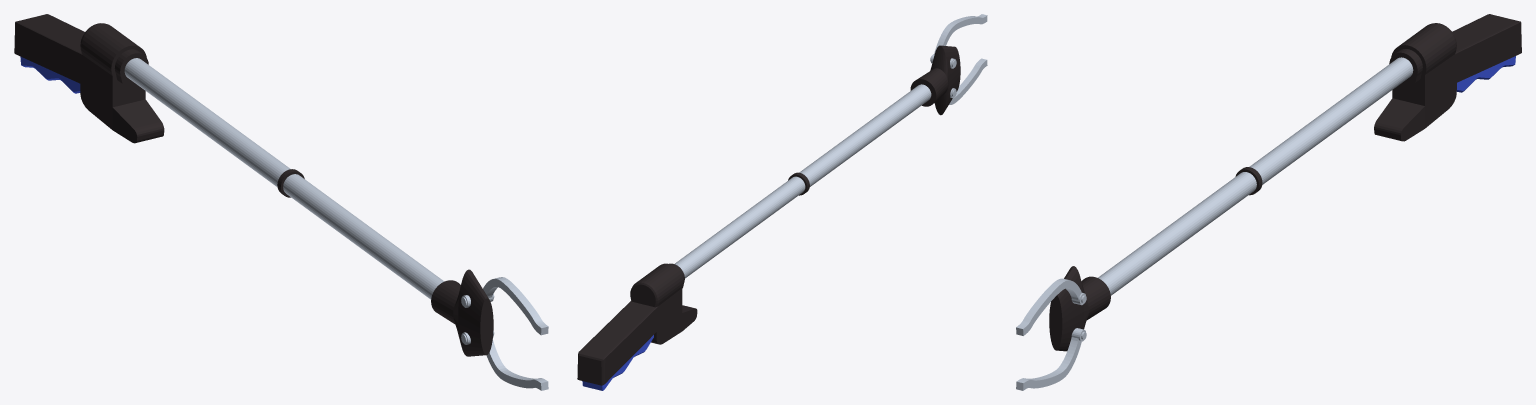
Rendered from cosaparaagarra.fbx.
The picture shows the model from 3 angles, left to right: view 1: azimuth 30°, elevation 25°; view 2: azimuth 150°, elevation 25°; view 3: azimuth 330°, elevation 25°; orthographic projection. The views are drawn at different scales.
Visible parts, largest first — view 1: Cilindro; view 2: Cilindro; view 3: Cilindro.
Part boxes in pixels (x1=…): Cilindro: x1=14, y1=14, x2=548, y2=390; Cilindro: x1=577, y1=14, x2=987, y2=390; Cilindro: x1=1016, y1=14, x2=1521, y2=390.
Bounding box in the file's own units: 99.98 × 311 × 2441.
